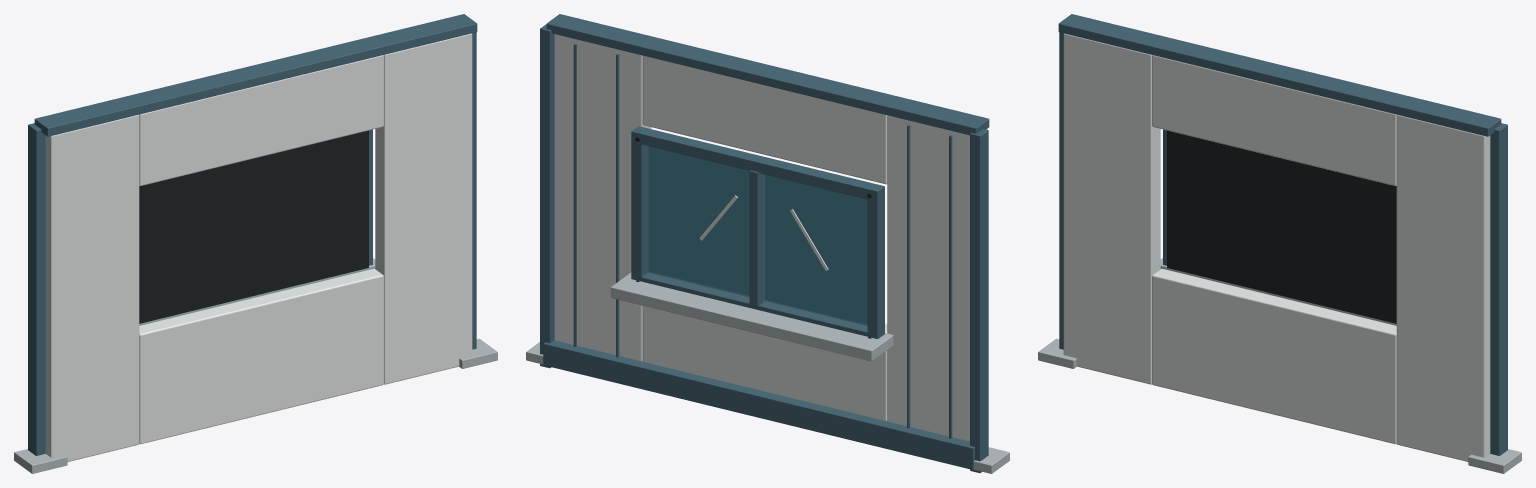
File: observation_window_wall_module.glb
3 views of the same model, side by side, from view 1: azimuth 30°, elevation 25°; view 2: azimuth 150°, elevation 25°; view 3: azimuth 330°, elevation 25° (orthographic).
Parts seen in each view (by area): view 1: WINDOW_recess, WALL_left, WALL_right, WALL_bottom, WALL_top, TOP_cap, PANEL_edge_post_-2.04, PANEL_edge_post_2.04, PANEL_foot_-2.04, WINDOW_sill, PANEL_foot_2.04, WINDOW_jamb_1.12; view 2: WINDOW_glass, WINDOW_recess, WALL_left, WALL_right, WALL_top, WALL_bottom, BASE_flashing, TOP_cap, WINDOW_sill, PANEL_edge_post_-2.04, PANEL_edge_post_2.04, WINDOW_rail_2.3 (+9 smaller); view 3: WINDOW_recess, WALL_right, WALL_left, WALL_bottom, WALL_top, TOP_cap, PANEL_edge_post_2.04, PANEL_edge_post_-2.04, PANEL_foot_2.04, WINDOW_sill, PANEL_foot_-2.04, WINDOW_jamb_-1.12.
Part boxes in pixels (<box>): WINDOW_recess: <box>139,130,368,323</box>; WALL_left: <box>45,114,139,461</box>; WALL_right: <box>375,33,472,384</box>; WALL_bottom: <box>139,268,383,444</box>; WALL_top: <box>139,55,383,185</box>; TOP_cap: <box>34,14,477,136</box>; PANEL_edge_post_-2.04: <box>28,123,45,455</box>; PANEL_edge_post_2.04: <box>472,32,476,349</box>; PANEL_foot_-2.04: <box>14,449,67,473</box>; WINDOW_sill: <box>139,258,375,325</box>; PANEL_foot_2.04: <box>459,338,497,368</box>; WINDOW_jamb_1.12: <box>369,129,372,265</box>; WINDOW_glass: <box>647,146,867,326</box>; WINDOW_recess: <box>648,146,867,325</box>; WALL_left: <box>887,115,969,441</box>; WALL_right: <box>554,34,651,361</box>; WALL_top: <box>642,55,887,184</box>; WALL_bottom: <box>642,306,887,420</box>; BASE_flashing: <box>543,340,974,469</box>; TOP_cap: <box>546,14,989,135</box>; WINDOW_sill: <box>610,272,893,361</box>; PANEL_edge_post_-2.04: <box>970,129,988,473</box>; PANEL_edge_post_2.04: <box>540,24,554,368</box>; WINDOW_rail_2.3: <box>631,126,884,199</box>; WINDOW_recess: <box>1167,130,1396,323</box>; WALL_right: <box>1396,114,1490,461</box>; WALL_left: <box>1063,33,1160,384</box>; WALL_bottom: <box>1152,268,1396,444</box>; WALL_top: <box>1152,55,1396,185</box>; TOP_cap: <box>1058,14,1501,136</box>; PANEL_edge_post_2.04: <box>1490,123,1507,455</box>; PANEL_edge_post_-2.04: <box>1059,32,1063,349</box>; PANEL_foot_2.04: <box>1468,449,1521,473</box>; WINDOW_sill: <box>1160,258,1396,325</box>; PANEL_foot_-2.04: <box>1038,338,1076,368</box>; WINDOW_jamb_-1.12: <box>1163,129,1166,265</box>.
Bounding box in the file's own units: 4.42 × 3.11 × 0.59.
